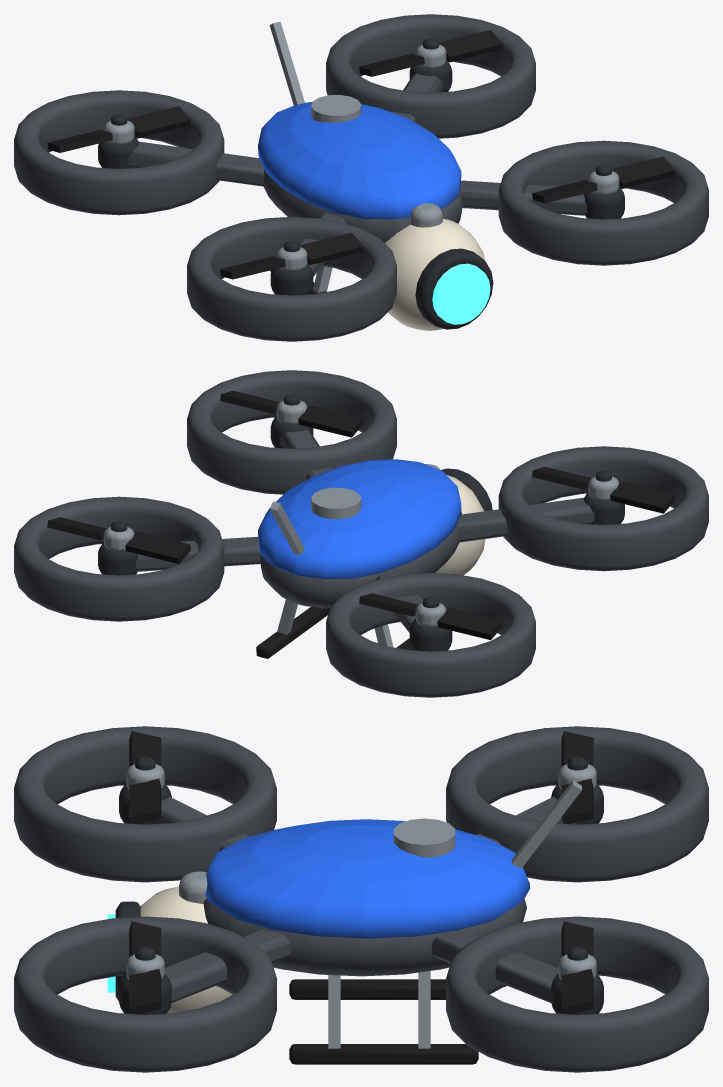
File: recon_drone.glb
3 views of the same model, one above another, from view 1: azimuth 30°, elevation 25°; view 2: azimuth 150°, elevation 25°; view 3: azimuth 270°, elevation 25° (orthographic). The views are drawn at different scales.
Visible parts, largest first — view 1: recon_drone__M_SmokePlastic, recon_drone__M_Team, turret__M_CreamPlastic, recon_drone__M_Dark, turret__M_E_Cyan, recon_drone__M_SpringSteel, turret__M_Dark, spinner_2__M_Licorice, spinner__M_Licorice, spinner_1__M_Licorice, spinner_3__M_Licorice, turret__M_SpringSteel (+4 smaller); view 2: recon_drone__M_SmokePlastic, recon_drone__M_Team, recon_drone__M_Dark, recon_drone__M_SpringSteel, spinner__M_Licorice, spinner_3__M_Licorice, spinner_1__M_Licorice, spinner_2__M_Licorice, turret__M_CreamPlastic, recon_drone__M_Licorice, turret__M_Dark, spinner_1__M_SpringSteel (+3 smaller); view 3: recon_drone__M_SmokePlastic, recon_drone__M_Team, recon_drone__M_Licorice, recon_drone__M_SpringSteel, recon_drone__M_Dark, turret__M_CreamPlastic, spinner__M_Licorice, spinner_3__M_Licorice, spinner_1__M_Licorice, spinner_2__M_Licorice, turret__M_SpringSteel, spinner__M_SpringSteel (+3 smaller).
Boxes of the visible parts, x1,y1,x2,y2 form: recon_drone__M_SmokePlastic: [14, 14, 708, 341]; recon_drone__M_Team: [258, 102, 461, 219]; turret__M_CreamPlastic: [385, 218, 484, 330]; recon_drone__M_Dark: [98, 60, 624, 295]; turret__M_E_Cyan: [432, 263, 490, 324]; recon_drone__M_SpringSteel: [269, 21, 361, 292]; turret__M_Dark: [415, 248, 493, 329]; spinner_2__M_Licorice: [47, 106, 190, 152]; spinner__M_Licorice: [532, 156, 675, 203]; spinner_1__M_Licorice: [220, 232, 363, 279]; spinner_3__M_Licorice: [359, 30, 502, 76]; turret__M_SpringSteel: [410, 203, 442, 227]; recon_drone__M_SmokePlastic: [14, 370, 708, 697]; recon_drone__M_Team: [258, 459, 461, 578]; recon_drone__M_Dark: [98, 416, 624, 651]; recon_drone__M_SpringSteel: [269, 487, 393, 647]; spinner__M_Licorice: [220, 390, 363, 437]; spinner_3__M_Licorice: [47, 517, 190, 563]; spinner_1__M_Licorice: [532, 467, 675, 513]; spinner_2__M_Licorice: [359, 593, 502, 639]; turret__M_CreamPlastic: [435, 475, 485, 575]; recon_drone__M_Licorice: [256, 607, 413, 658]; turret__M_Dark: [441, 468, 492, 511]; spinner_1__M_SpringSteel: [588, 476, 619, 500]; recon_drone__M_SmokePlastic: [14, 726, 708, 1072]; recon_drone__M_Team: [205, 819, 529, 938]; recon_drone__M_Licorice: [289, 979, 478, 1064]; recon_drone__M_SpringSteel: [328, 780, 581, 1048]; recon_drone__M_Dark: [119, 783, 603, 1014]; turret__M_CreamPlastic: [140, 886, 232, 1013]; spinner__M_Licorice: [129, 921, 161, 1014]; spinner_3__M_Licorice: [561, 921, 593, 1014]; spinner_1__M_Licorice: [129, 731, 161, 823]; spinner_2__M_Licorice: [561, 731, 593, 823]; turret__M_SpringSteel: [179, 871, 207, 903]; spinner__M_SpringSteel: [126, 954, 164, 979].
Bounding box in the file's own units: 0.792 × 0.3034 × 0.772.
